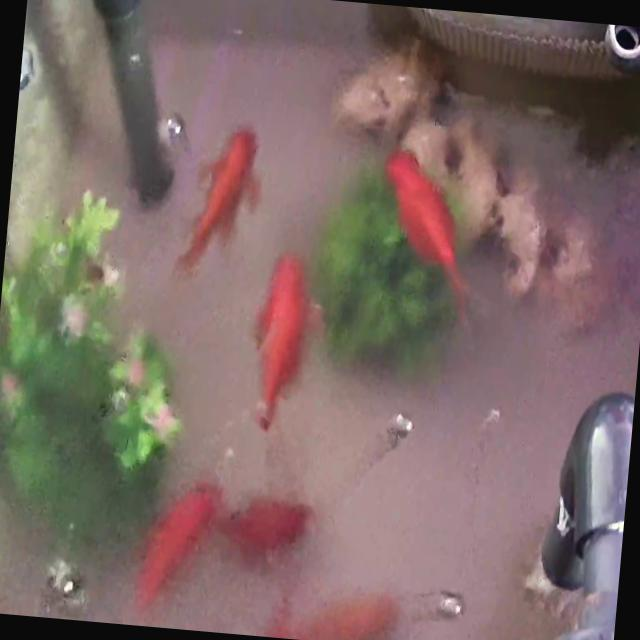fish: (372, 144, 484, 322), (172, 121, 264, 282), (244, 248, 318, 434), (130, 476, 220, 613), (217, 490, 314, 564), (291, 580, 391, 640), (257, 591, 354, 640)
